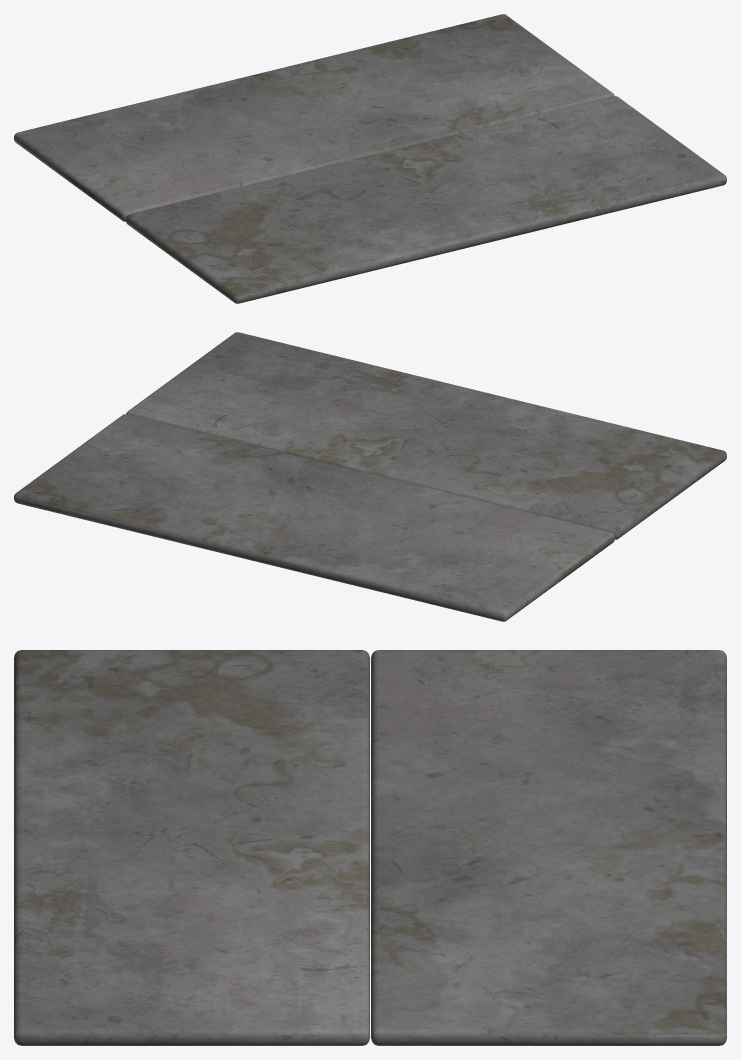
Rendered from plate.fbx.
The picture shows the model from 3 angles, top to bottom: view 1: azimuth 30°, elevation 25°; view 2: azimuth 150°, elevation 25°; view 3: azimuth 270°, elevation 25°; orthographic projection. The views are drawn at different scales.
Visible parts, largest first — view 1: Cube.005, Cube.001; view 2: Cube.001, Cube.005; view 3: Cube.001, Cube.005.
Boxes of the visible parts, x1,y1,x2,y2 form: Cube.005: (126,96,726,303); Cube.001: (14,14,614,221); Cube.001: (14,414,614,621); Cube.005: (126,332,726,539); Cube.001: (371,650,726,1045); Cube.005: (14,650,369,1045).
Bounding box in the file's own units: 24.34 × 0.4973 × 19.09.
1 material, 1 textured.
